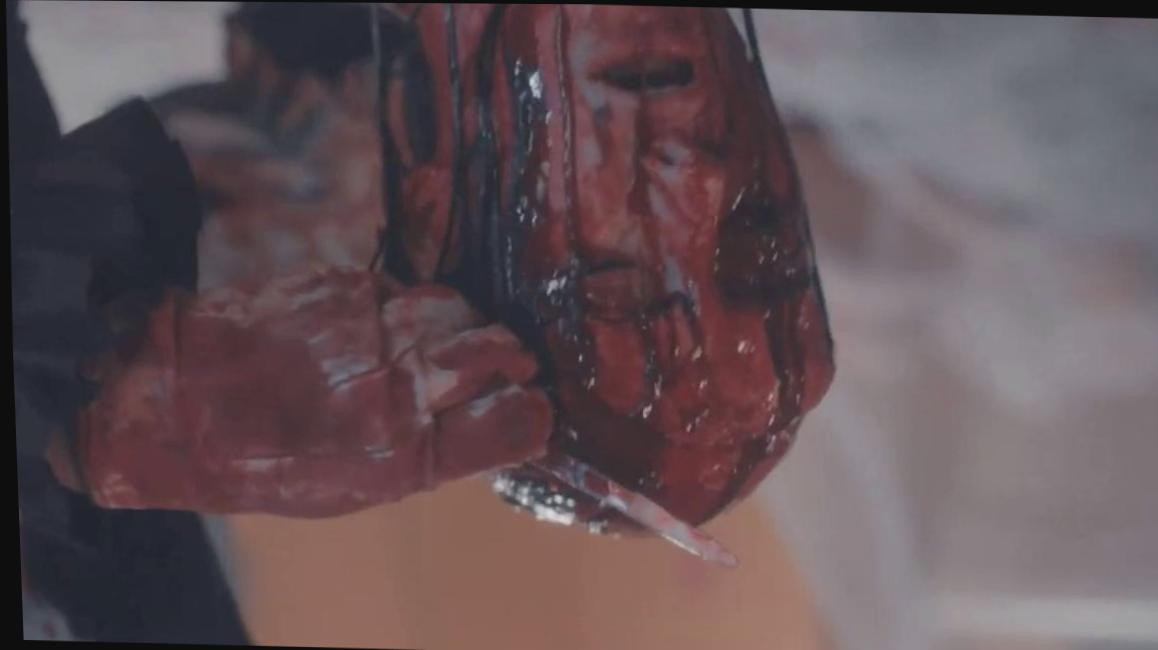Fire: (46, 2, 832, 543)
